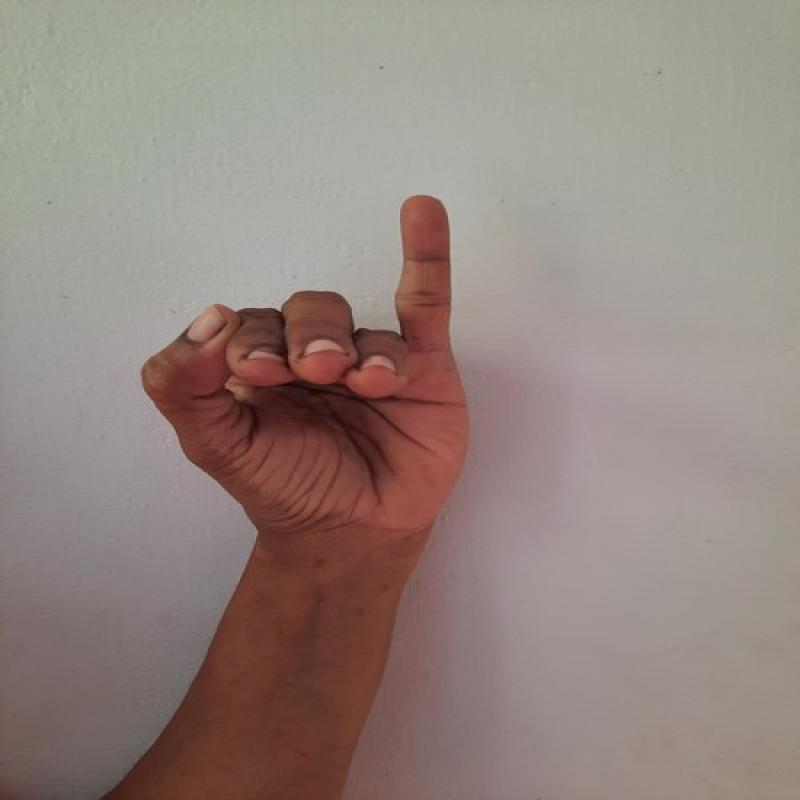Kartharee Mukham: (128, 184, 475, 542)
